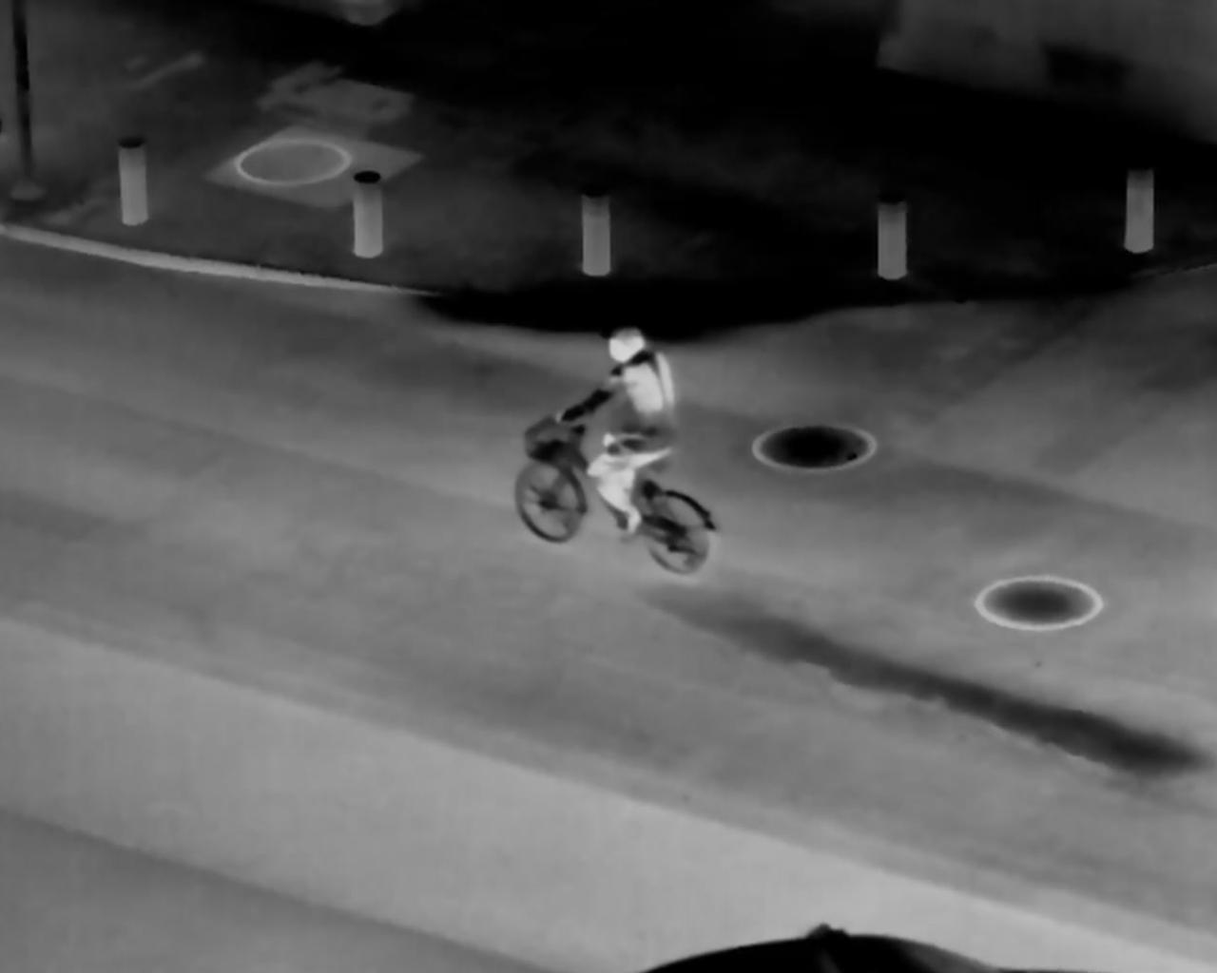person: (550, 321, 680, 548)
